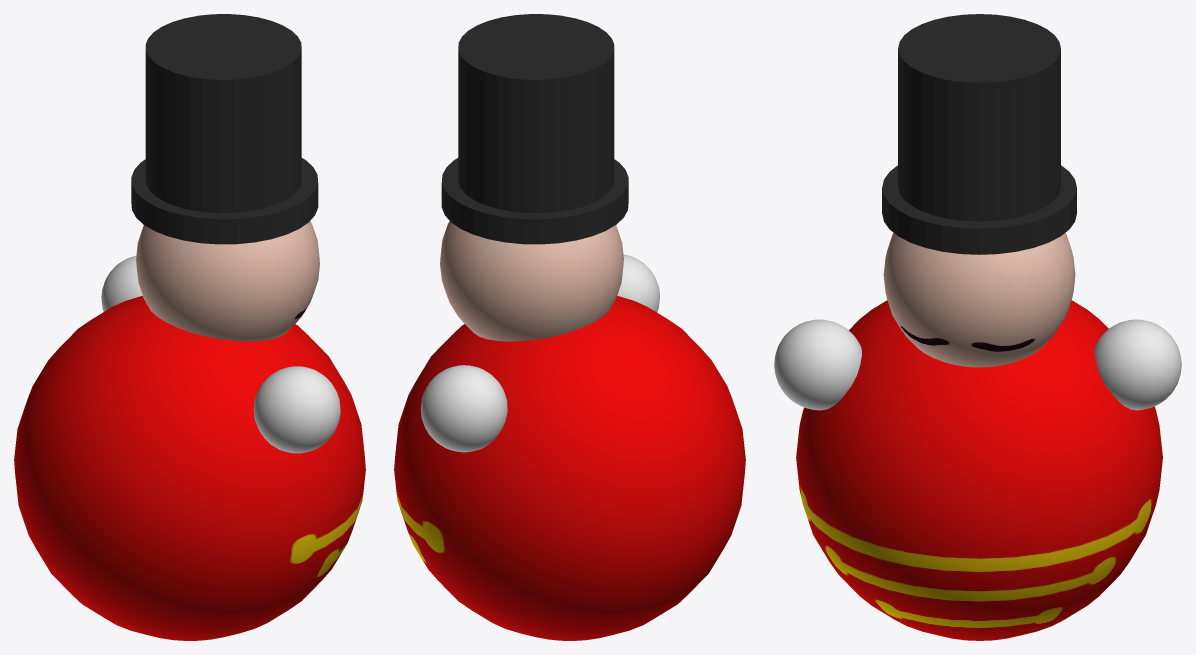
File: ringmaster.gltf
3 views of the same model, side by side, from view 1: azimuth 30°, elevation 25°; view 2: azimuth 150°, elevation 25°; view 3: azimuth 270°, elevation 25° (orthographic). The views are drawn at different scales.
Visible parts, largest first — view 1: Sphere.003; view 2: Sphere.003; view 3: Sphere.003.
Part boxes in pixels (x1,y1,x2,y2): Sphere.003: (14, 14, 365, 640); Sphere.003: (394, 14, 745, 640); Sphere.003: (774, 14, 1181, 640).
Size of the model in its own units: 2 by 3.56 by 2.22.
Materials: 1 (1 with a texture image).
